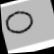no answer: (1, 7, 36, 37)
